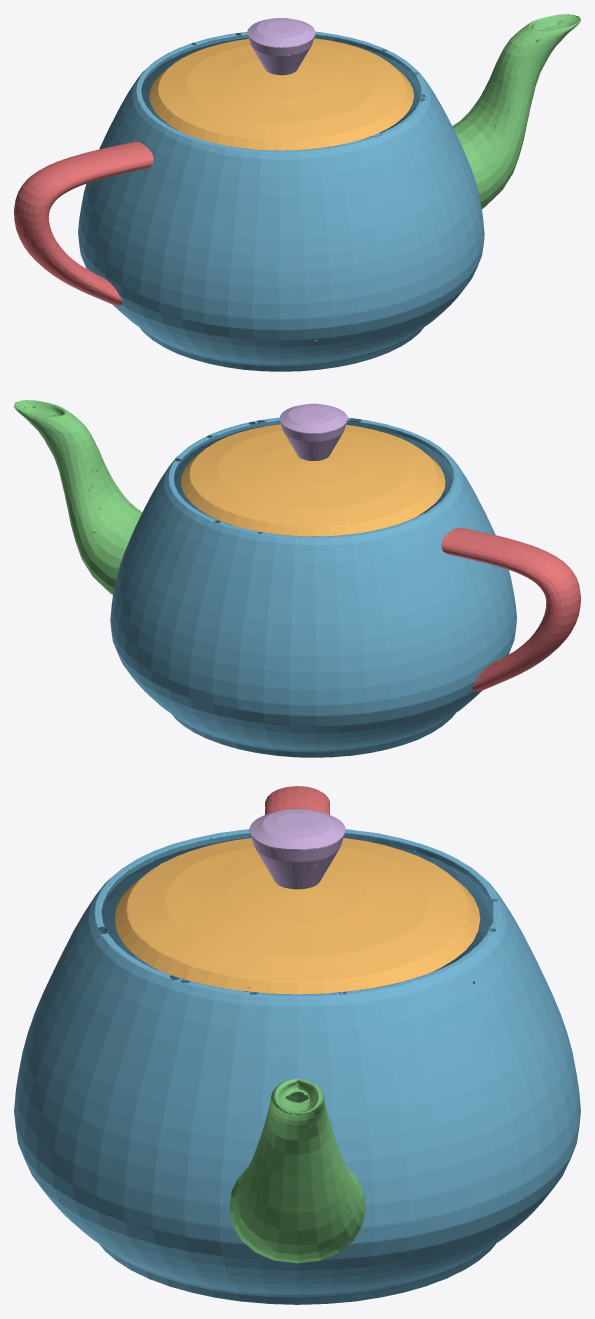
File: ceramic-teapot.glb
3 views of the same model, one above another, from view 1: azimuth 30°, elevation 25°; view 2: azimuth 150°, elevation 25°; view 3: azimuth 270°, elevation 25° (orthographic). The views are drawn at different scales.
Visible parts, largest first — view 1: Part 01, Part 02, Part 03, Part 04, Part 05; view 2: Part 01, Part 02, Part 03, Part 04, Part 05; view 3: Part 01, Part 02, Part 03, Part 05, Part 04.
Boxes of the visible parts, <box> form: Part 01: <box>78,31,484,371</box>; Part 02: <box>149,38,413,150</box>; Part 03: <box>452,14,580,208</box>; Part 04: <box>14,141,153,305</box>; Part 05: <box>247,18,315,75</box>; Part 01: <box>110,417,516,757</box>; Part 02: <box>181,424,445,536</box>; Part 03: <box>14,400,142,595</box>; Part 04: <box>441,527,580,691</box>; Part 05: <box>279,403,347,460</box>; Part 01: <box>14,829,580,1304</box>; Part 02: <box>115,838,480,994</box>; Part 03: <box>229,1078,365,1263</box>; Part 05: <box>249,809,345,889</box>; Part 04: <box>265,786,329,814</box>.
Size of the model in its own units: 0.9944 by 0.492 by 0.6213.
